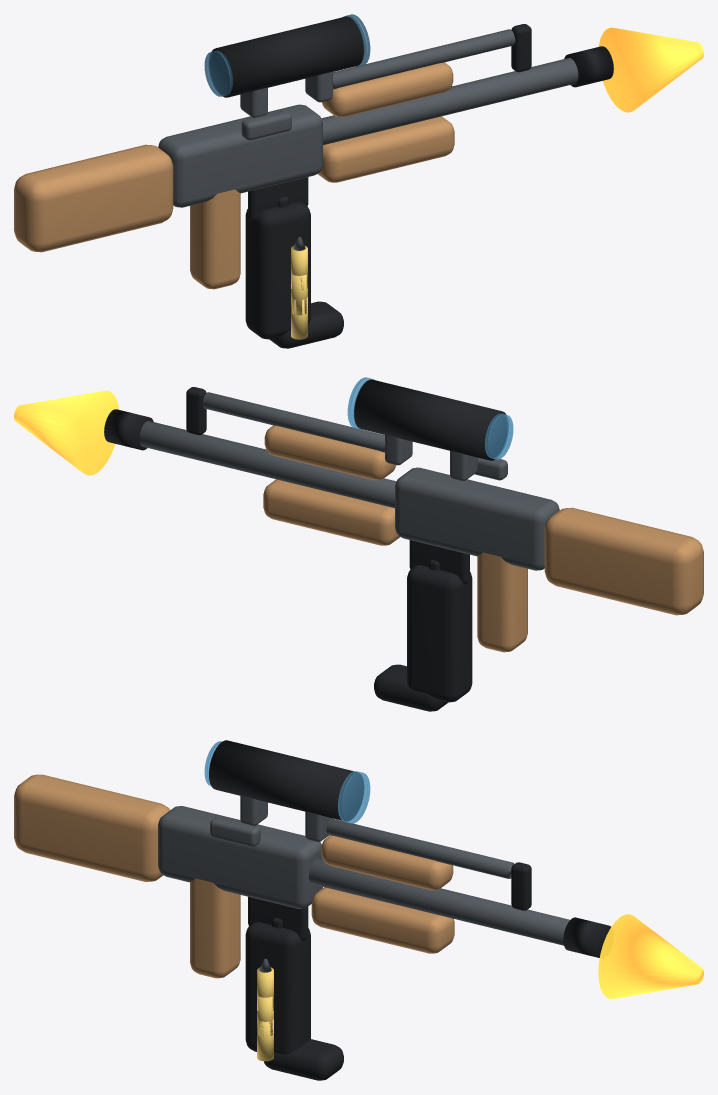
The model's file is cartoon_ak47.glb.
The picture shows the model from 3 angles, top to bottom: view 1: azimuth 30°, elevation 25°; view 2: azimuth 150°, elevation 25°; view 3: azimuth 330°, elevation 25°; orthographic projection.
Visible parts, largest first — view 1: ak47_stock, ak47_receiver, ak47_scope_tube, ak47_magazine_body, ak47_barrel, ak47_muzzle_flash_socket_hidden, ak47_wood_lower_handguard, ak47_grip, ak47_wood_upper_handguard, ak47_gas_tube, ak47_magazine_curve_foot, ak47_trigger_guard (+8 smaller); view 2: ak47_stock, ak47_receiver, ak47_magazine_body, ak47_scope_tube, ak47_barrel, ak47_muzzle_flash_socket_hidden, ak47_wood_lower_handguard, ak47_grip, ak47_wood_upper_handguard, ak47_gas_tube, ak47_magazine_curve_foot, ak47_trigger_guard (+6 smaller); view 3: ak47_stock, ak47_receiver, ak47_scope_tube, ak47_barrel, ak47_magazine_body, ak47_muzzle_flash_socket_hidden, ak47_wood_lower_handguard, ak47_grip, ak47_wood_upper_handguard, ak47_gas_tube, ak47_magazine_curve_foot, ak47_trigger_guard (+7 smaller).
Boxes of the visible parts, left/top/right/bottom form: ak47_stock: left=14, top=144, right=173, bottom=252; ak47_receiver: left=158, top=104, right=322, bottom=207; ak47_scope_tube: left=210, top=16, right=363, bottom=97; ak47_magazine_body: left=245, top=202, right=310, bottom=339; ak47_barrel: left=321, top=58, right=578, bottom=145; ak47_muzzle_flash_socket_hidden: left=598, top=27, right=703, bottom=112; ak47_wood_lower_handguard: left=318, top=116, right=454, bottom=182; ak47_grip: left=190, top=189, right=240, bottom=289; ak47_wood_upper_handguard: left=322, top=62, right=453, bottom=117; ak47_gas_tube: left=333, top=29, right=515, bottom=89; ak47_magazine_curve_foot: left=269, top=301, right=343, bottom=348; ak47_trigger_guard: left=248, top=177, right=308, bottom=220; ak47_stock: left=544, top=507, right=703, bottom=615; ak47_receiver: left=395, top=467, right=559, bottom=570; ak47_magazine_body: left=407, top=565, right=472, bottom=702; ak47_scope_tube: left=354, top=379, right=507, bottom=460; ak47_barrel: left=139, top=421, right=396, bottom=508; ak47_muzzle_flash_socket_hidden: left=14, top=390, right=119, bottom=475; ak47_wood_lower_handguard: left=263, top=479, right=399, bottom=545; ak47_grip: left=477, top=552, right=527, bottom=652; ak47_wood_upper_handguard: left=264, top=425, right=395, bottom=480; ak47_gas_tube: left=202, top=392, right=384, bottom=452; ak47_magazine_curve_foot: left=374, top=664, right=448, bottom=711; ak47_trigger_guard: left=409, top=540, right=469, bottom=583; ak47_stock: left=14, top=774, right=170, bottom=881; ak47_receiver: left=158, top=806, right=322, bottom=908; ak47_scope_tube: left=209, top=740, right=363, bottom=821; ak47_barrel: left=308, top=858, right=569, bottom=945; ak47_magazine_body: left=245, top=922, right=310, bottom=1054; ak47_muzzle_flash_socket_hidden: left=598, top=914, right=703, bottom=998; ak47_wood_lower_handguard: left=311, top=887, right=454, bottom=953; ak47_grip: left=190, top=878, right=240, bottom=978; ak47_wood_upper_handguard: left=321, top=835, right=453, bottom=890; ak47_gas_tube: left=326, top=818, right=514, bottom=878; ak47_magazine_curve_foot: left=264, top=1039, right=343, bottom=1080; ak47_trigger_guard: left=248, top=896, right=308, bottom=940.
Size of the model in its own units: 3.24 by 1.41 by 0.36.
